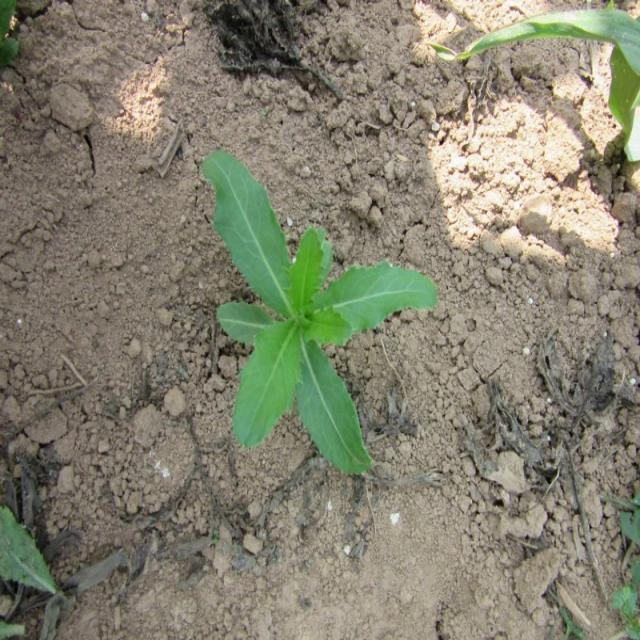cs: (198, 146, 442, 485)
